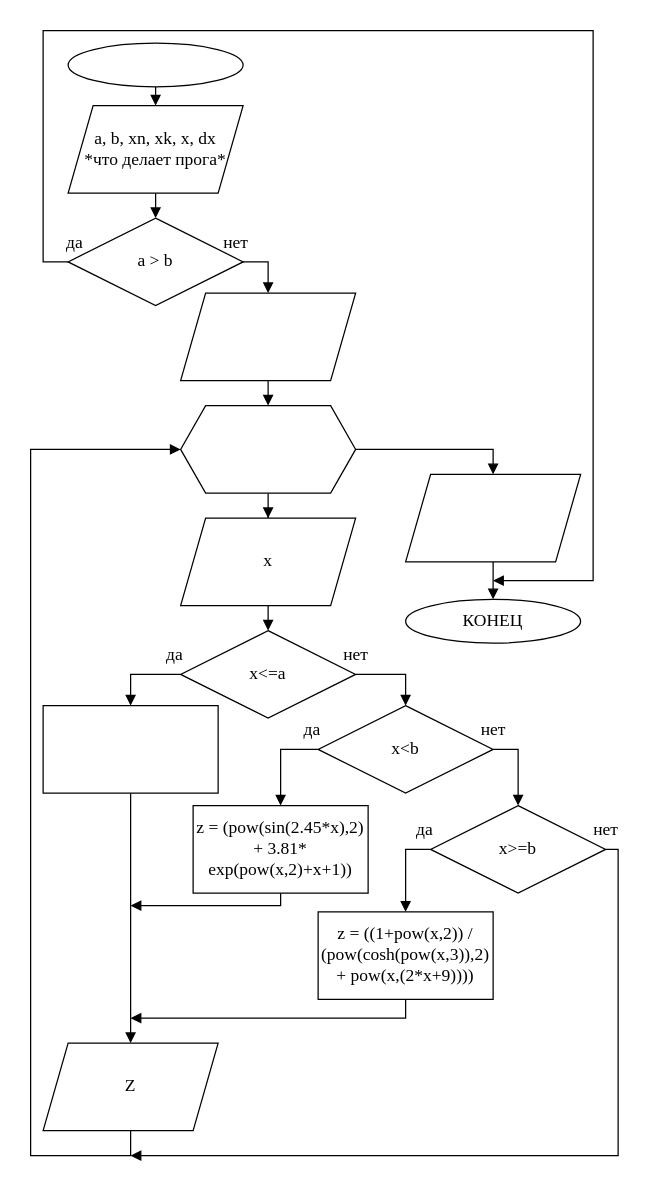
Some shapes in this 653 by 1188 pixel diagram are drawn without their labels. Each missing label, with the centre of its shape:
"*конец таблицы*" belongs at pixel 492 517.
"x=xn; x<=xk; x+=dx" belongs at pixel 267 448.
"z = (log(x-sinh(x)) + acos(5.1*x))" belongs at pixel 130 748.
"НАЧАЛО" belongs at pixel 155 64.
"Шапка и заголовок таблицы" belongs at pixel 267 336.
